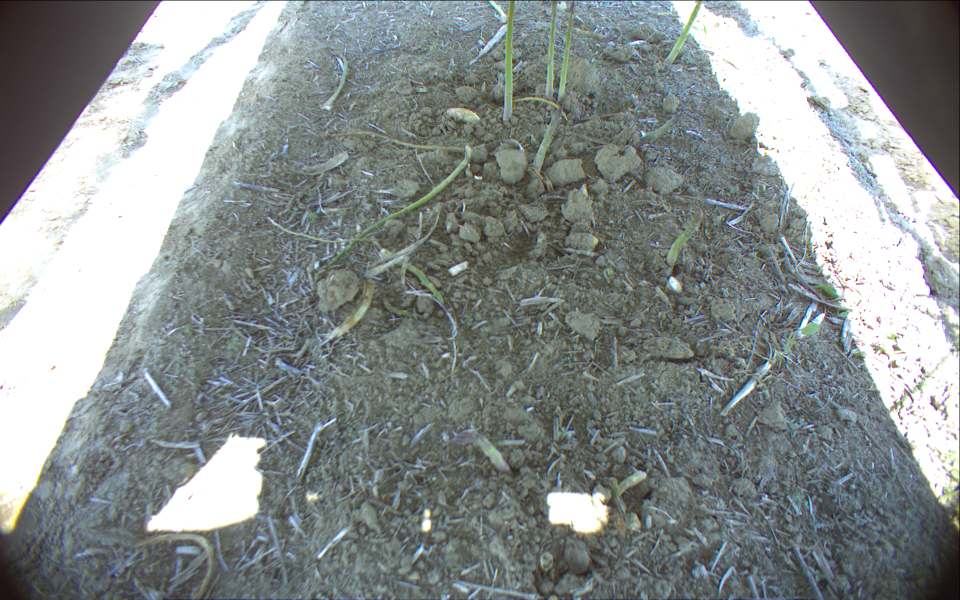aspa: (315, 145, 473, 282), (379, 249, 443, 307), (329, 130, 465, 155), (663, 206, 704, 271), (452, 431, 511, 476), (528, 104, 563, 178), (665, 1, 701, 68), (631, 108, 684, 150), (559, 1, 577, 105), (502, 1, 516, 121), (321, 53, 350, 110), (511, 95, 568, 121), (545, 1, 558, 101), (383, 298, 428, 322), (445, 106, 479, 124), (486, 1, 506, 18)
